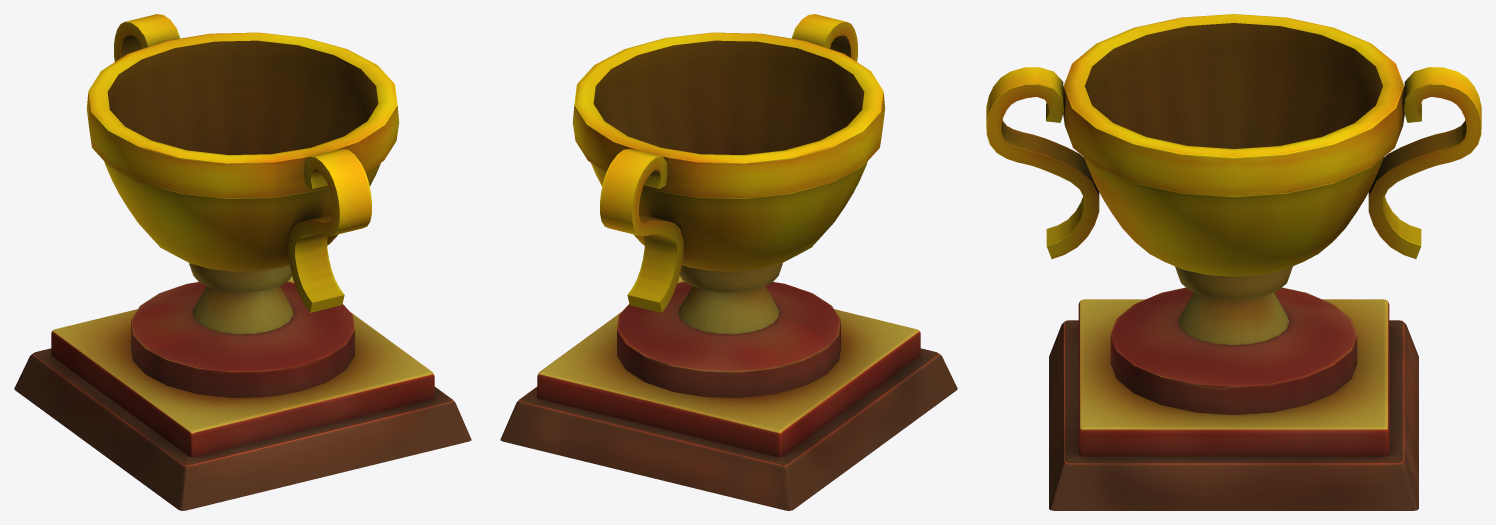
The model's file is Trophy.fbx.
3 views of the same model, side by side, from view 1: azimuth 30°, elevation 25°; view 2: azimuth 150°, elevation 25°; view 3: azimuth 270°, elevation 25° (orthographic). The views are drawn at different scales.
Parts seen in each view (by area): view 1: Trophy; view 2: Trophy; view 3: Trophy.
Boxes of the visible parts, x1,y1,x2,y2 form: Trophy: (14, 14, 471, 510); Trophy: (500, 14, 957, 510); Trophy: (986, 14, 1481, 510).
Size of the model in its own units: 0.12 by 0.1277 by 0.1605.
